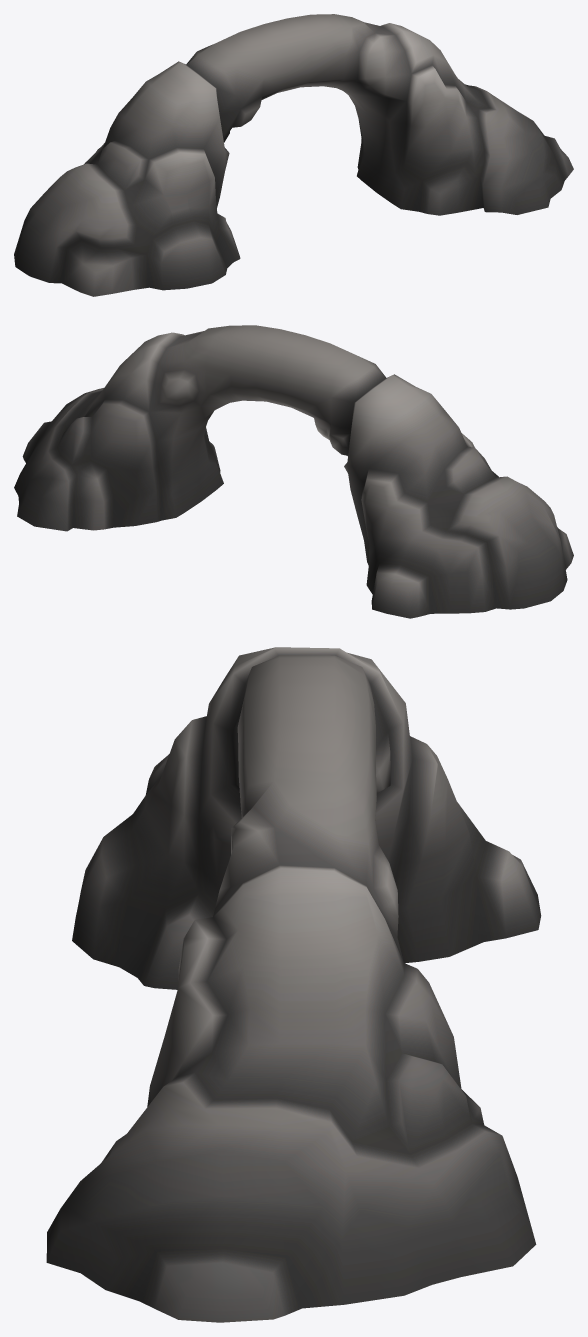
The model's file is m_Arch01_A.fbx.
The picture shows the model from 3 angles, top to bottom: view 1: azimuth 30°, elevation 25°; view 2: azimuth 150°, elevation 25°; view 3: azimuth 270°, elevation 25°; orthographic projection. The views are drawn at different scales.
Parts seen in each view (by area): view 1: m_Arch01_A; view 2: m_Arch01_A; view 3: m_Arch01_A.
Part boxes in pixels (box(x1,y1,x2,y2)): m_Arch01_A: box(14, 14, 573, 296); m_Arch01_A: box(14, 325, 573, 618); m_Arch01_A: box(46, 647, 541, 1322).
Bounding box in the file's own units: 1617 × 541 × 663.
